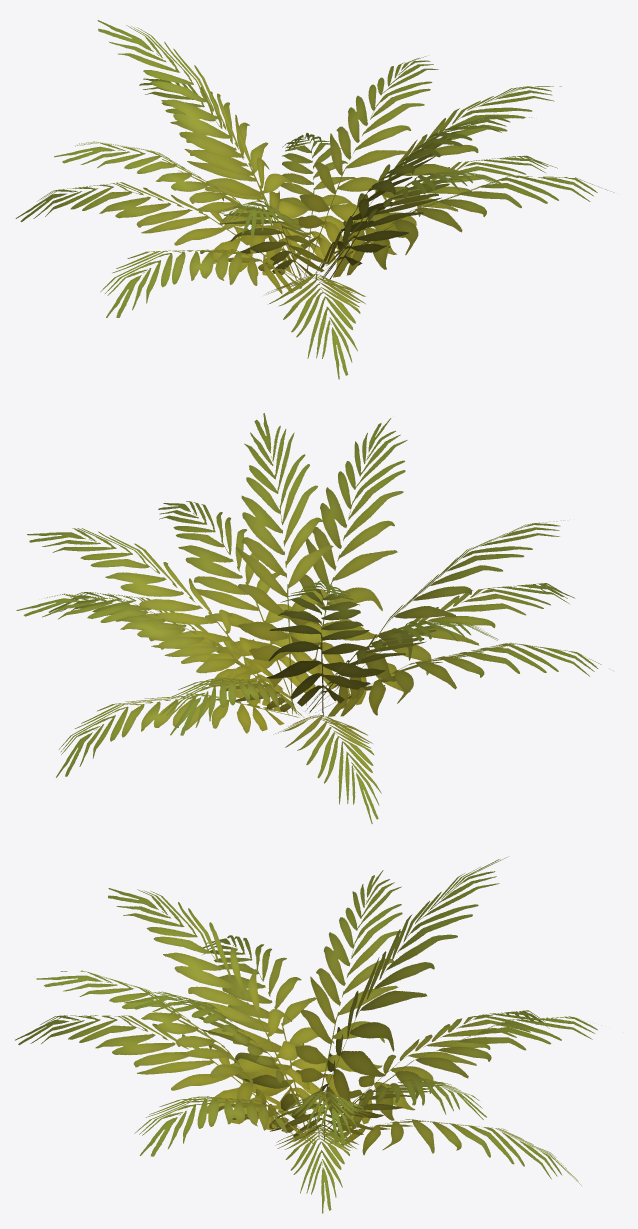
Rendered from fern 01_lod2.obj.
The picture shows the model from 3 angles, top to bottom: view 1: azimuth 30°, elevation 25°; view 2: azimuth 150°, elevation 25°; view 3: azimuth 270°, elevation 25°; orthographic projection.
Parts seen in each view (by area): view 1: tree; view 2: tree; view 3: tree.
Boxes of the visible parts, <box> form: tree: <box>15,20,613,379</box>; tree: <box>16,413,601,823</box>; tree: <box>15,856,597,1213</box>.
Bounding box in the file's own units: 196 × 78.05 × 191.
